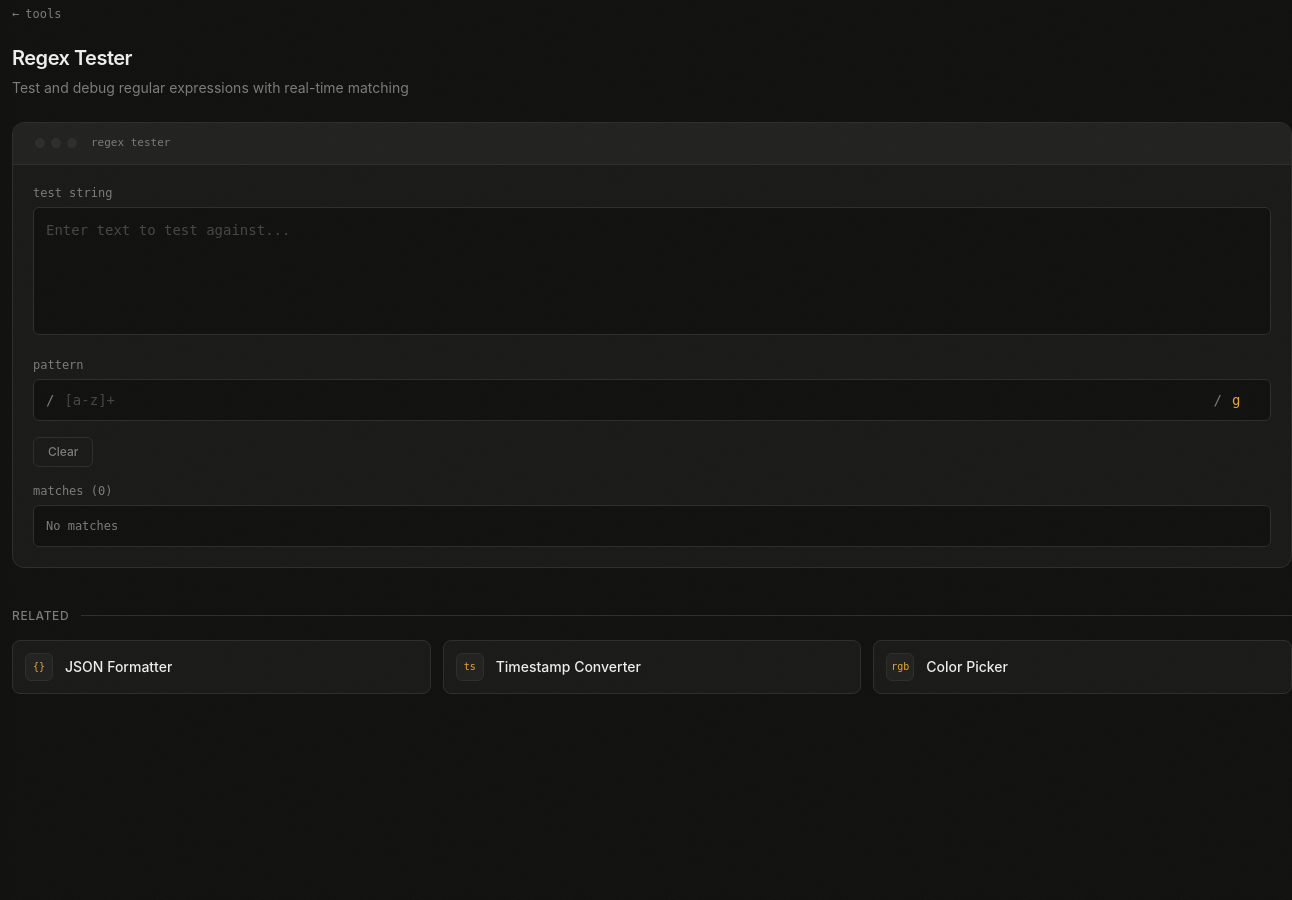
Regex Tester › matches patterns in real-time
In the field with placeholder "[a-z]+": (634, 400) top-left (54, 380), bottom-right (1214, 420), type "\\d+"
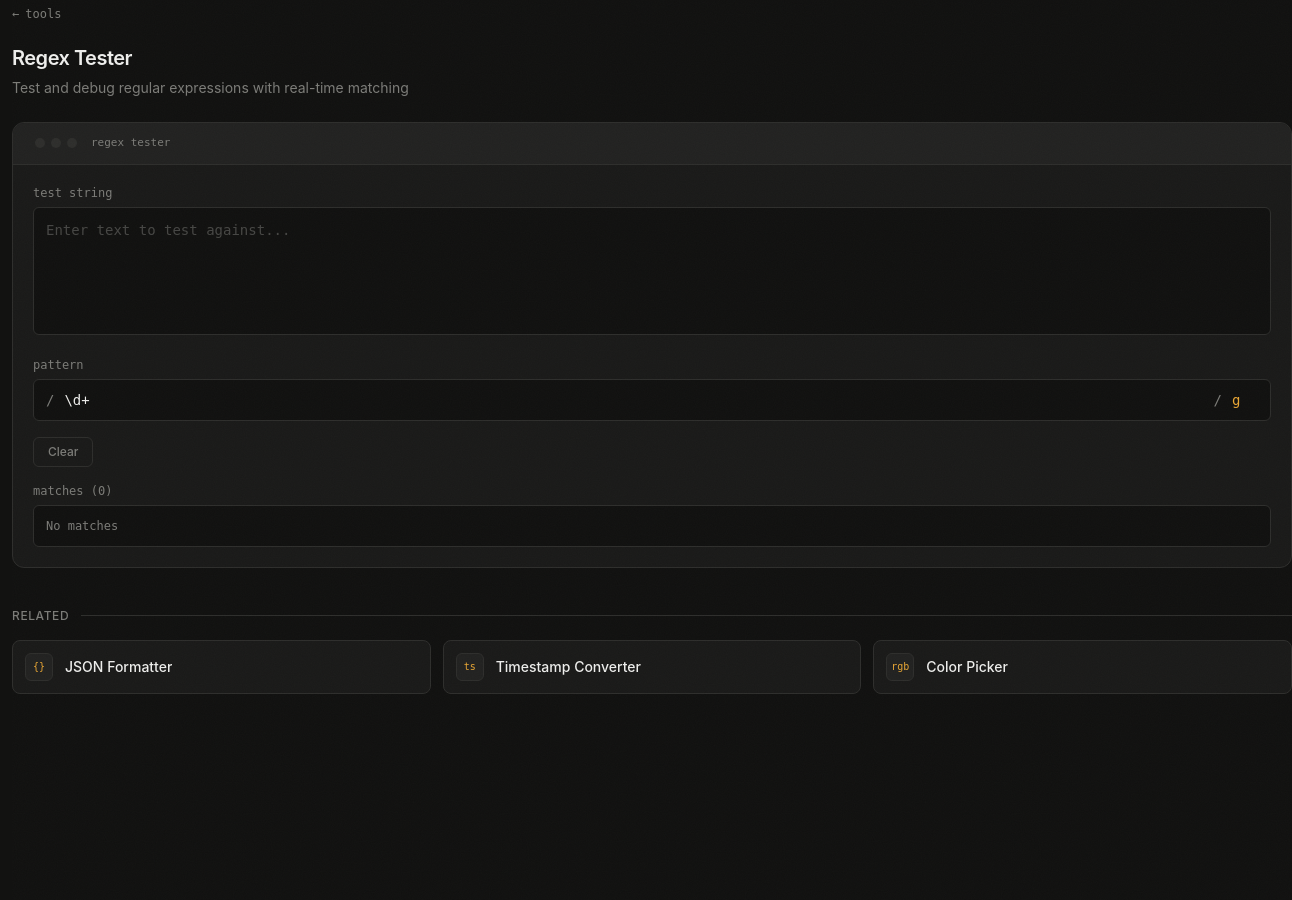
In the text box with placeholder "Enter text to test against...": (652, 270) top-left (33, 206), bottom-right (1271, 334), type "abc 123 def 456"
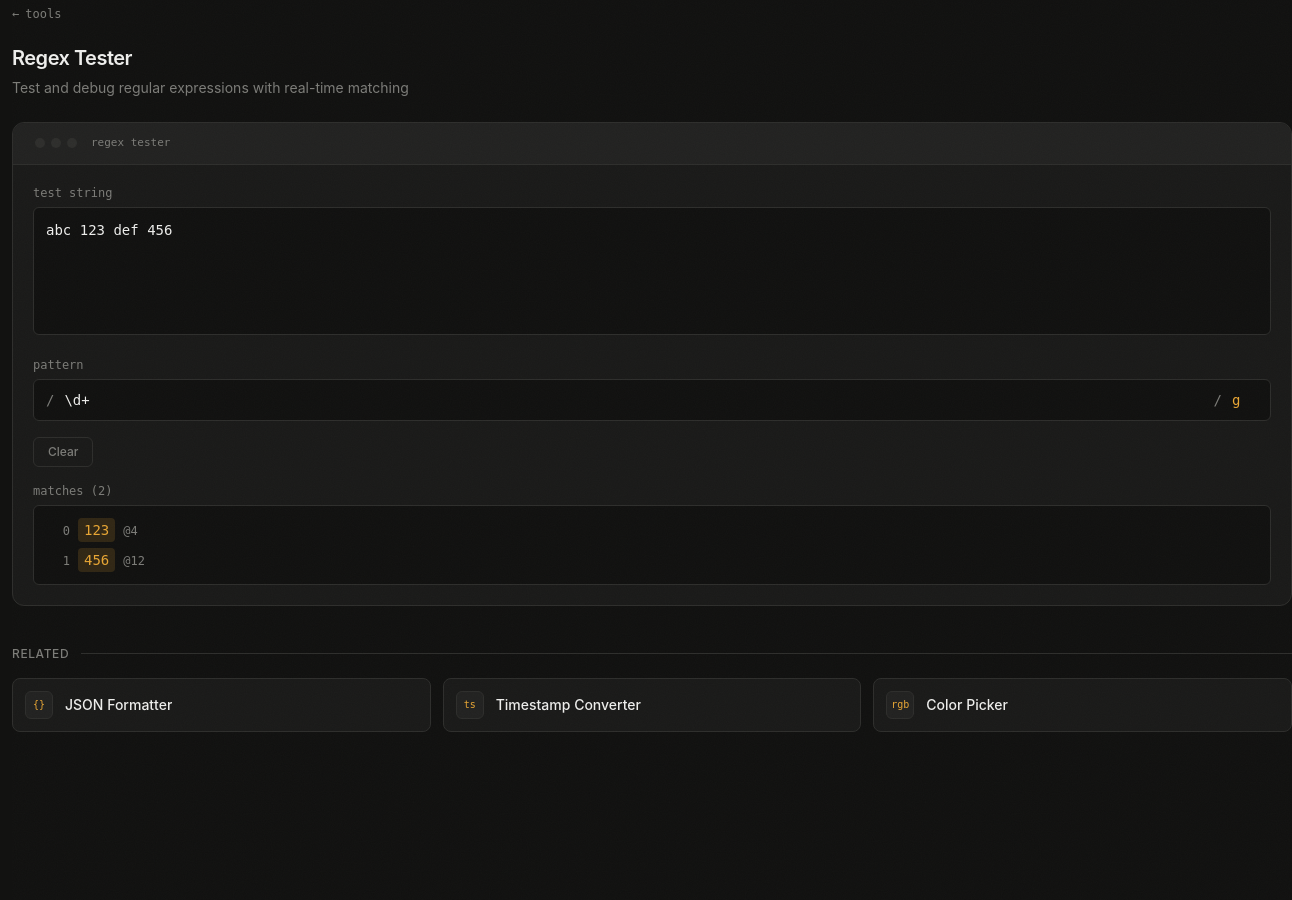
Now the text "123" is shown, box top-left (78, 518), bottom-right (115, 542)
Now the text "456" is shown, box top-left (78, 548), bottom-right (115, 572)
Now the text "matches (2)" is shown, box top-left (33, 484), bottom-right (112, 498)
